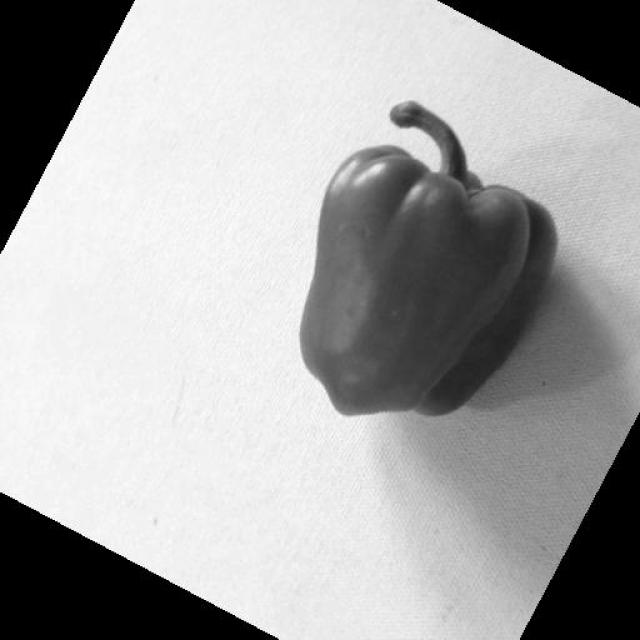Fresh_Capsicum: (309, 106, 552, 441)
